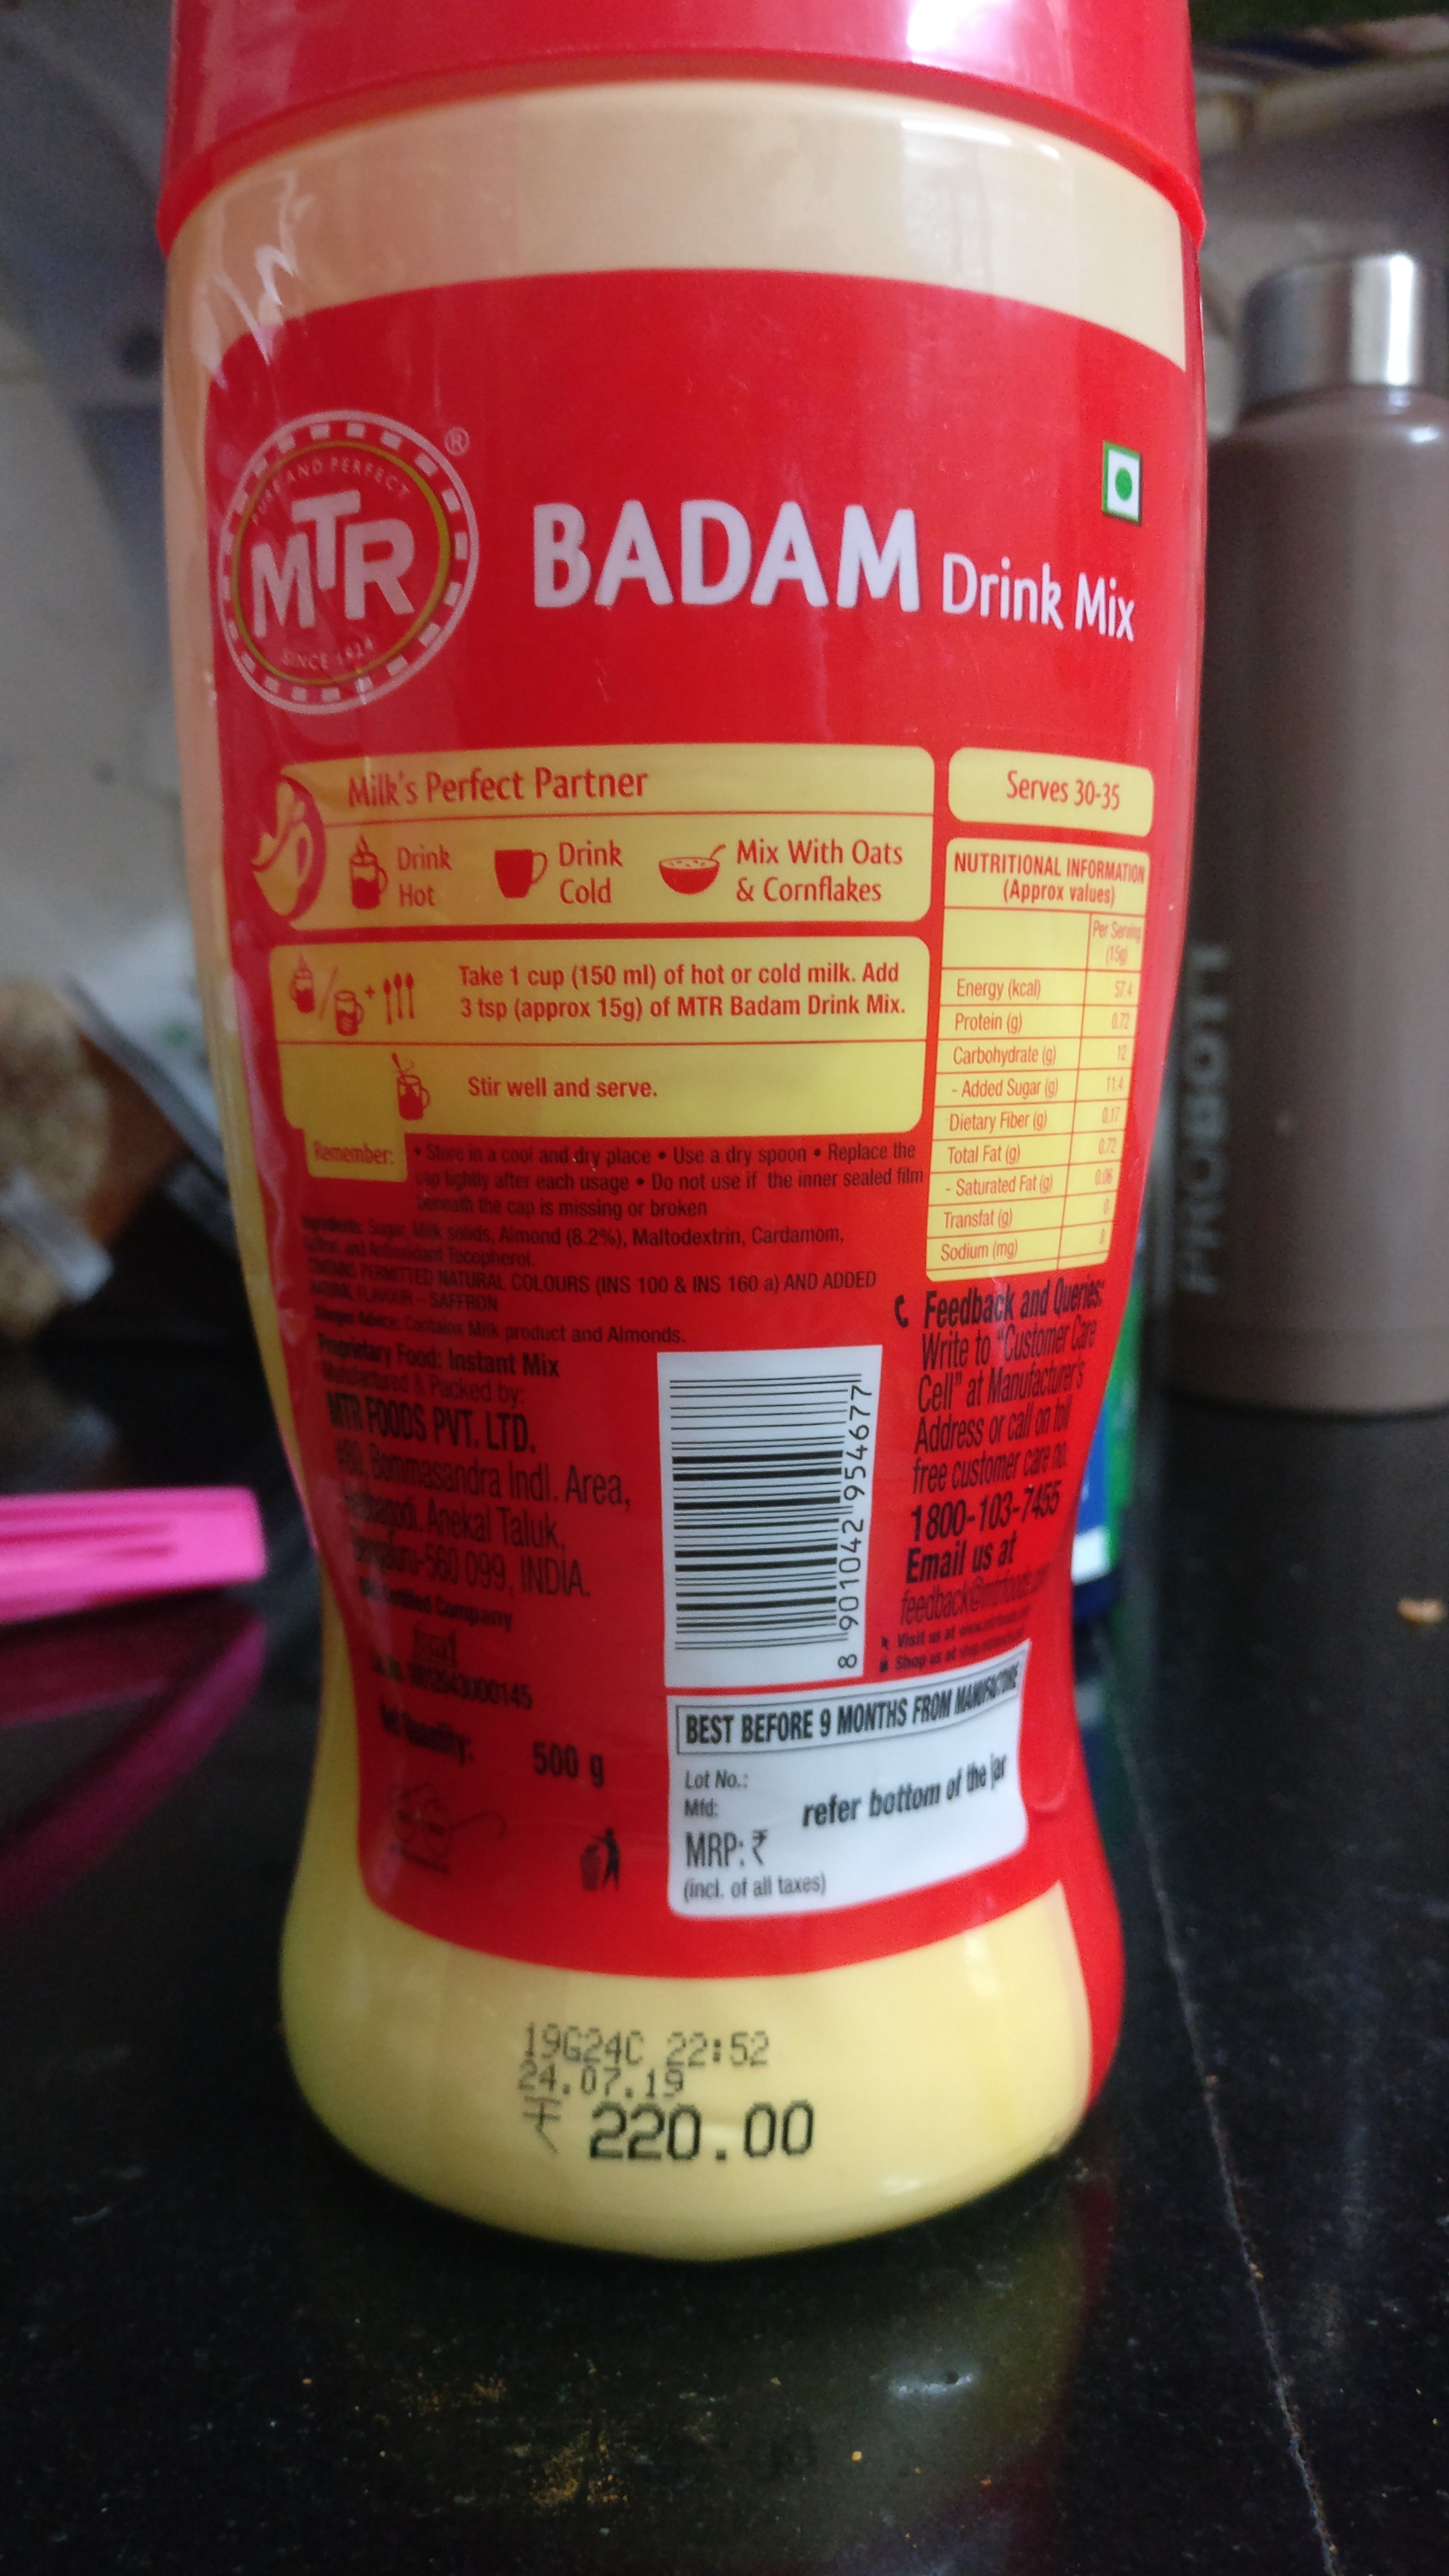barcode: (648, 1350, 870, 1674)
